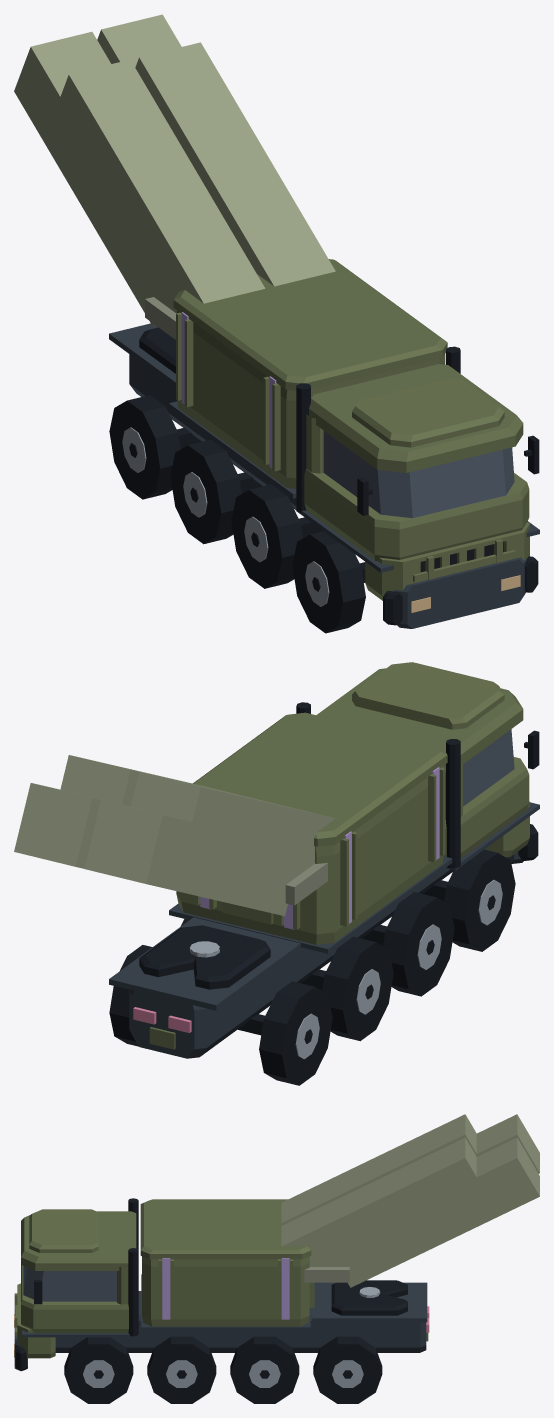
Rendered from sam.glb.
3 renders of one model, top to bottom at view 1: azimuth 30°, elevation 25°; view 2: azimuth 150°, elevation 25°; view 3: azimuth 270°, elevation 25°, orthographic. The views are drawn at different scales.
Parts seen in each view (by area): view 1: eight-wheel-industrial-hauler, ground (×5), wheel-1r, wheel-2r, wheel-4r, wheel-3r; view 2: eight-wheel-industrial-hauler, ground (×5), wheel-4r, wheel-2r, wheel-3r, wheel-1r, wheel-4l; view 3: eight-wheel-industrial-hauler, ground (×5), wheel-2l, wheel-3l, wheel-4l, wheel-1l.
Part boxes in pixels (<box>): eight-wheel-industrial-hauler: <box>109,259,539,628</box>; ground (×5): <box>14,14,335,339</box>; wheel-1r: <box>292,531,365,633</box>; wheel-2r: <box>231,484,302,588</box>; wheel-4r: <box>109,395,180,499</box>; wheel-3r: <box>170,439,241,544</box>; eight-wheel-industrial-hauler: <box>109,662,539,1058</box>; ground (×5): <box>14,755,335,916</box>; wheel-4r: <box>259,981,332,1085</box>; wheel-2r: <box>383,892,454,996</box>; wheel-3r: <box>322,936,393,1041</box>; wheel-1r: <box>444,849,515,951</box>; wheel-4l: <box>109,945,152,1046</box>; eight-wheel-industrial-hauler: <box>14,1198,429,1371</box>; ground (×5): <box>281,1114,539,1287</box>; wheel-2l: <box>147,1336,216,1403</box>; wheel-3l: <box>230,1336,299,1403</box>; wheel-4l: <box>313,1336,382,1403</box>; wheel-1l: <box>64,1337,133,1403</box>.
Bounding box in the file's own units: 4 × 7.63 × 15.2.
